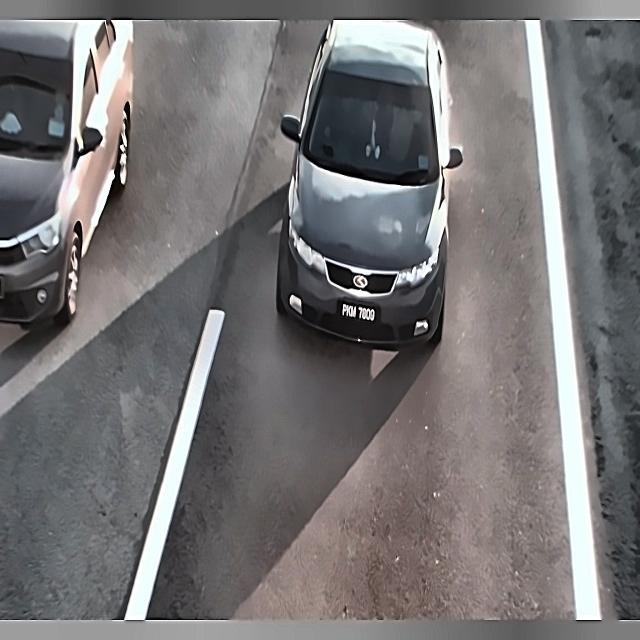car: (335, 298, 380, 331), (0, 273, 9, 306)
